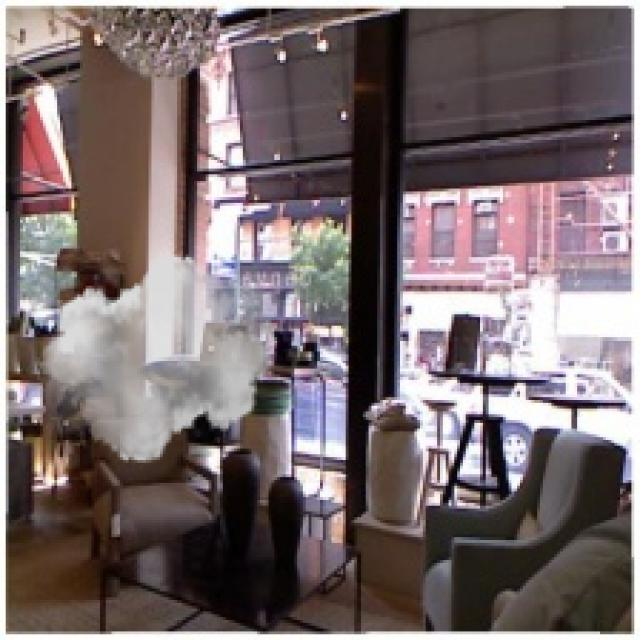smoke: (37, 246, 277, 471)
